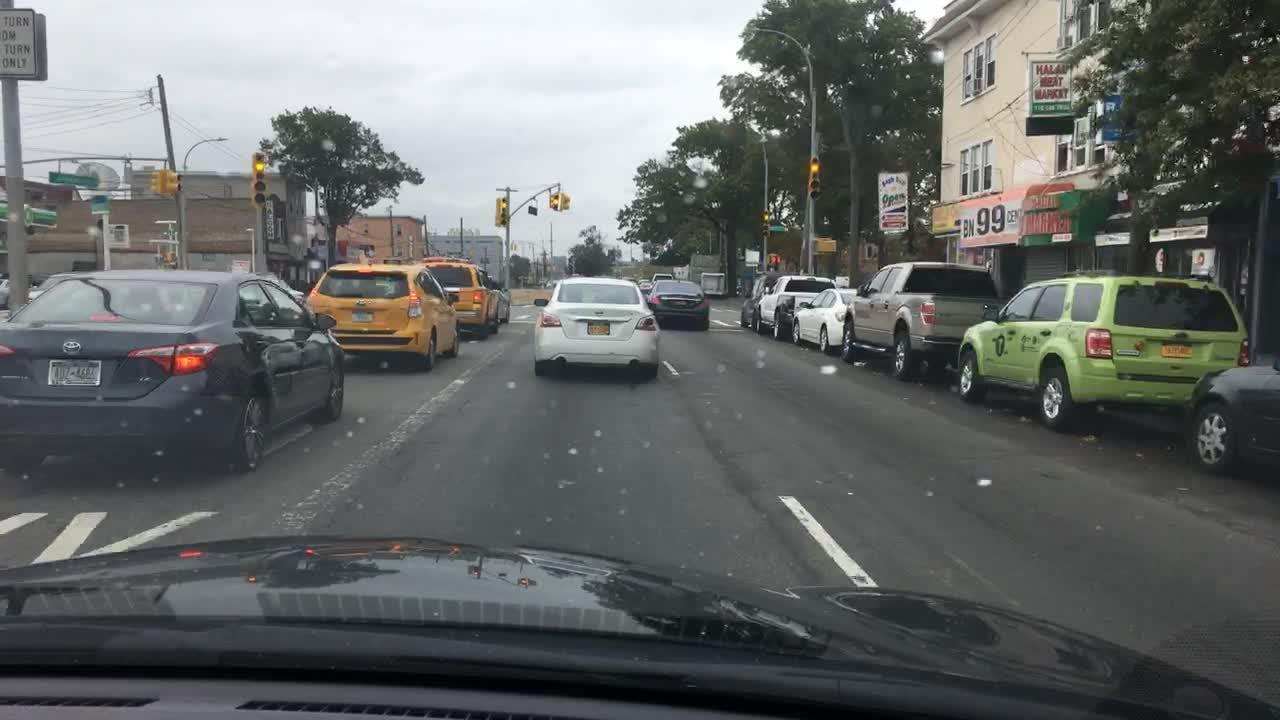Nissan: (593, 307, 607, 320)
Toyota: (55, 335, 97, 361)
